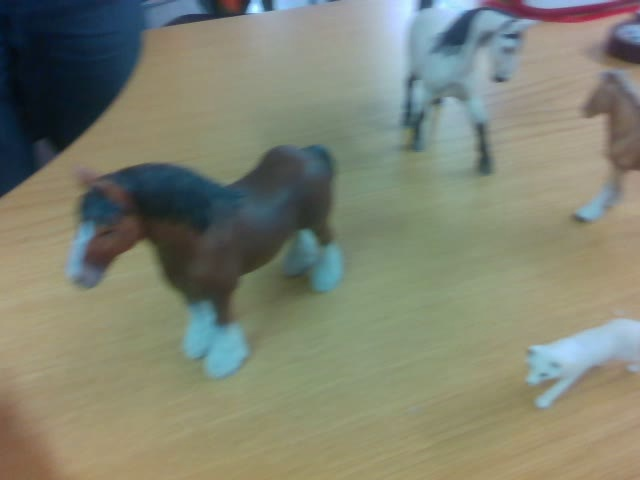toy: (67, 145, 342, 376), (399, 1, 542, 178)
